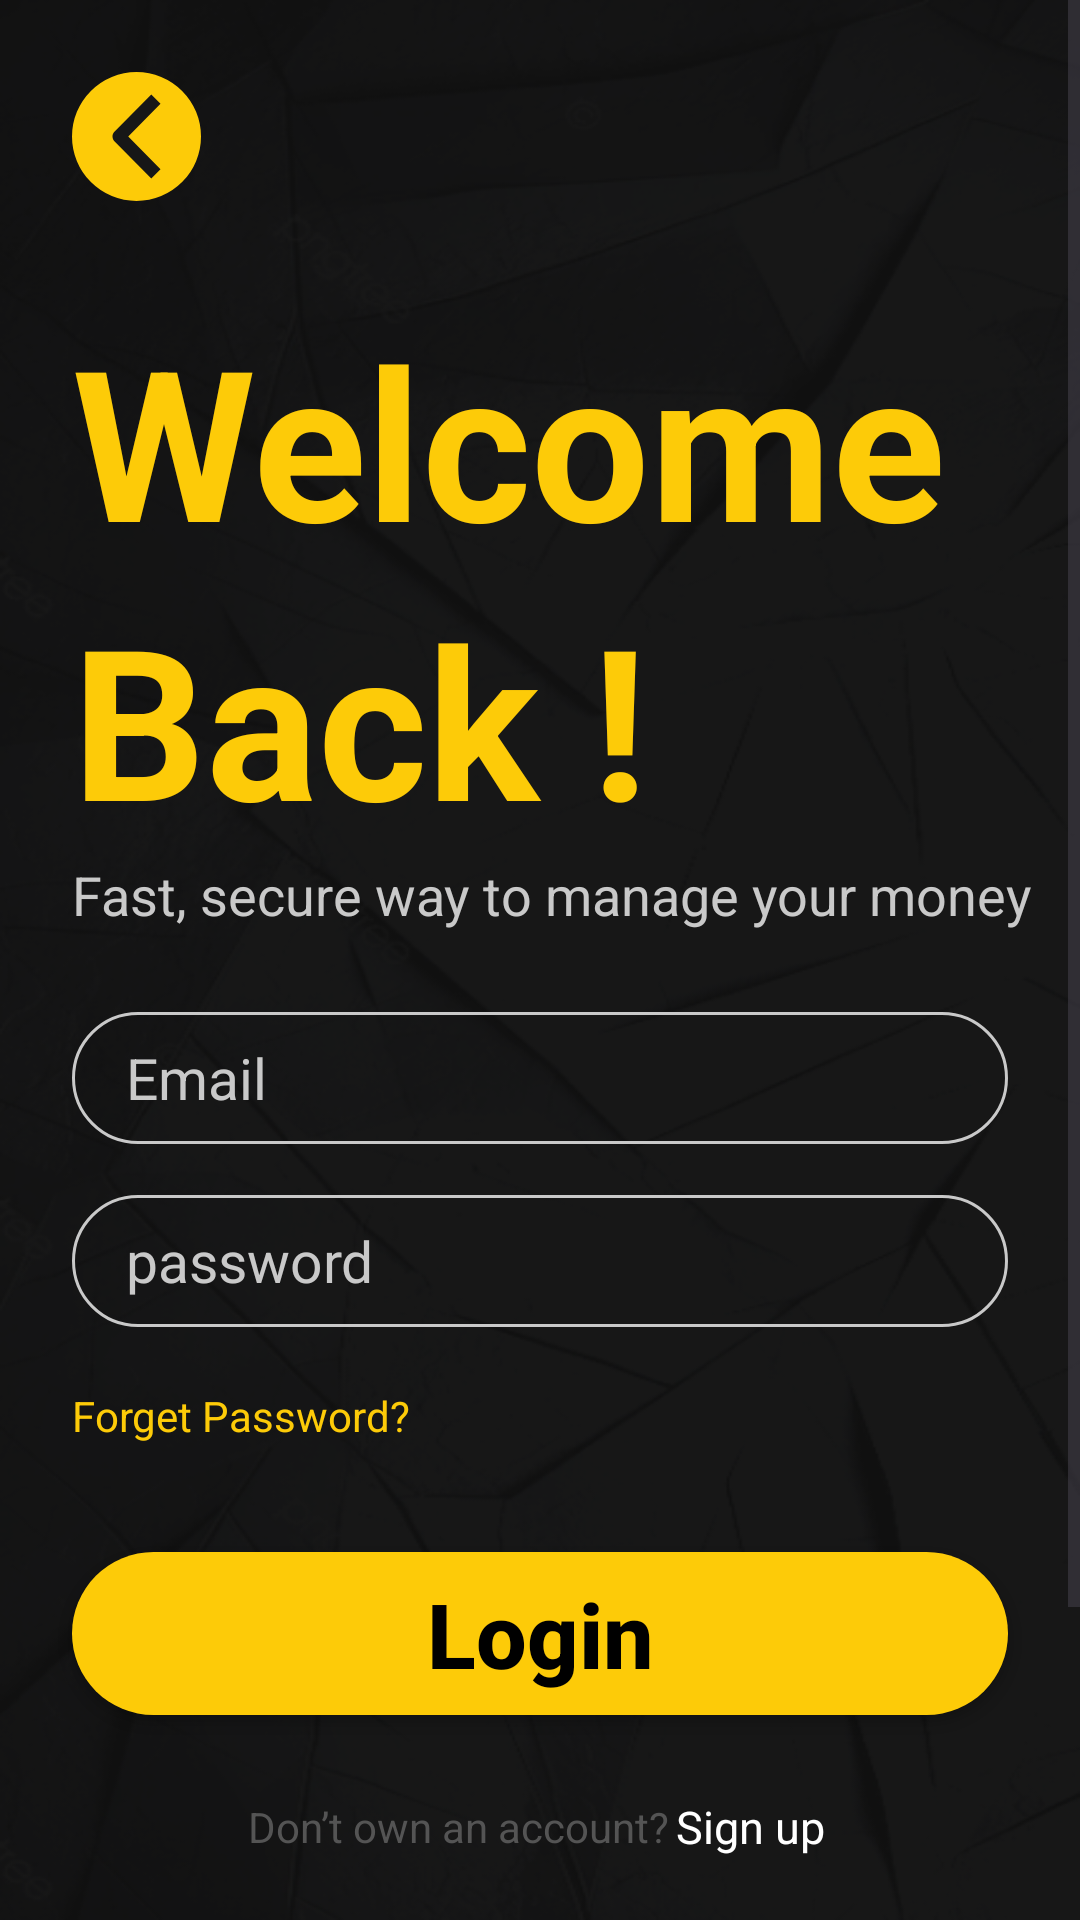

Screen size 1080px x 1920px. Icon name, then its box in pixels as (x1, y1, x2, y2):
back: (72, 72, 201, 201)
